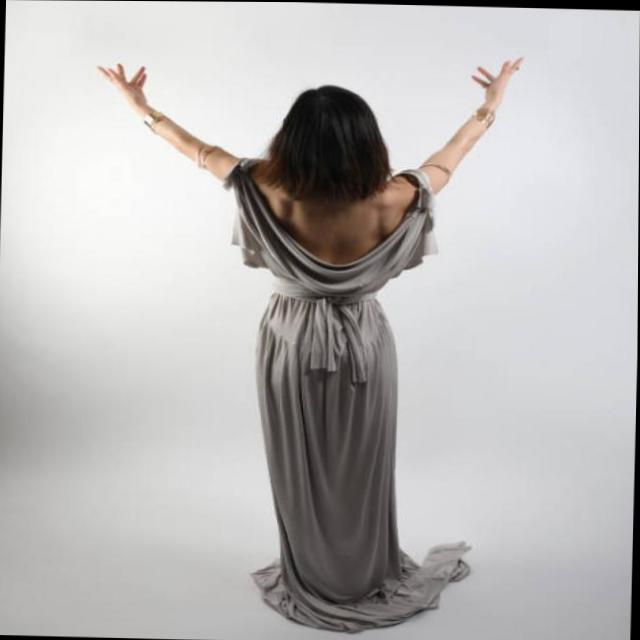no helmet: (249, 72, 413, 230)
